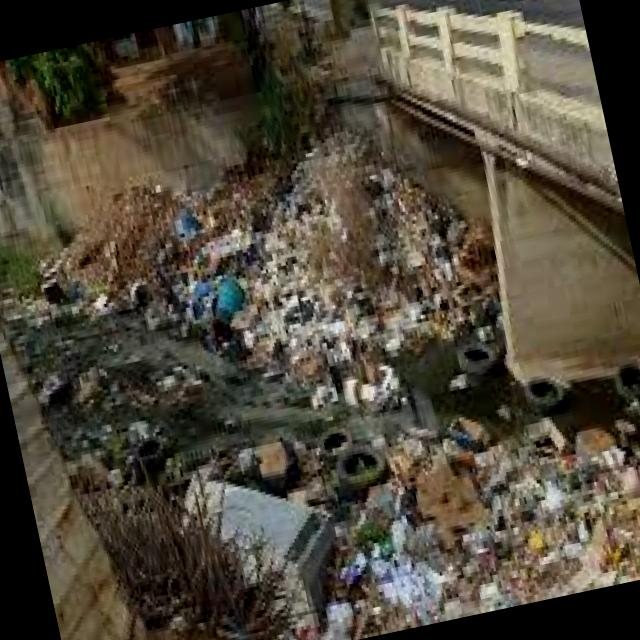garbage: (146, 113, 520, 423), (297, 379, 640, 640)
